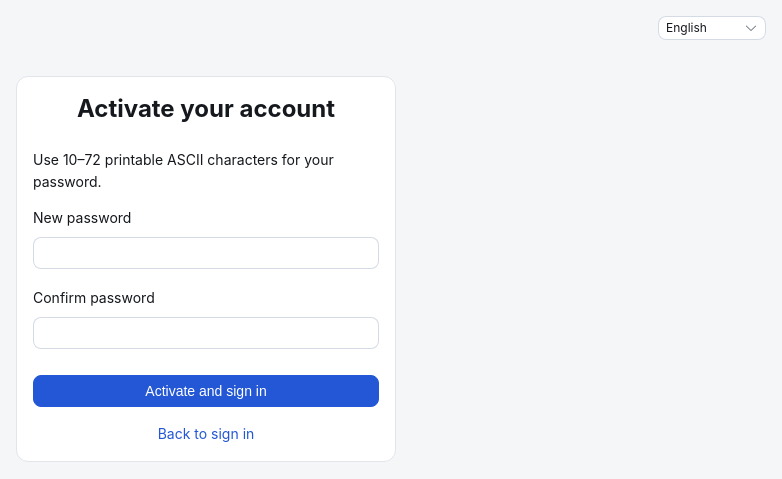
it: activation and reset links › shows the translated token failure
Type "Test-password1" into the password field labelled "New password".
click(206, 253); type("Test-password1")  # box [44, 238, 368, 268]
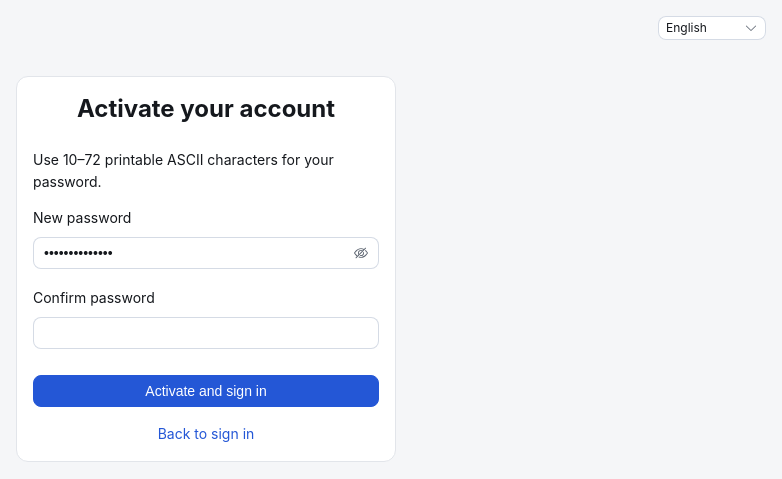
Type "Test-password1" into the password field labelled "Confirm password".
click(206, 333); type("Test-password1")  # box [44, 318, 368, 348]
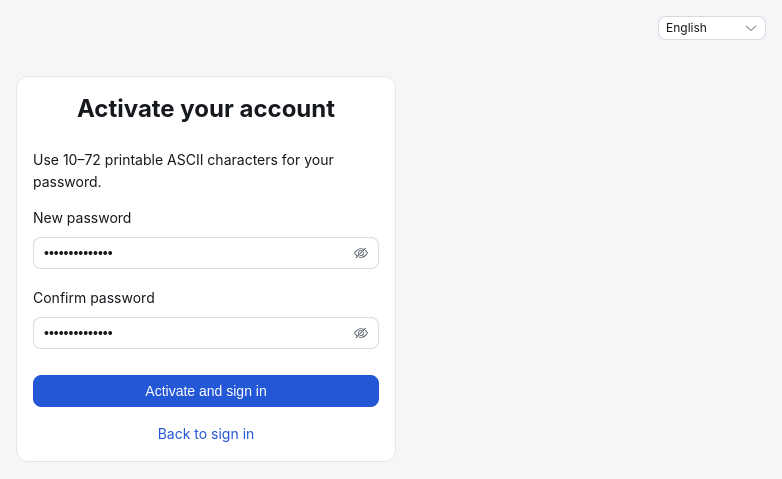
Submit the form, box [33, 149, 379, 407]
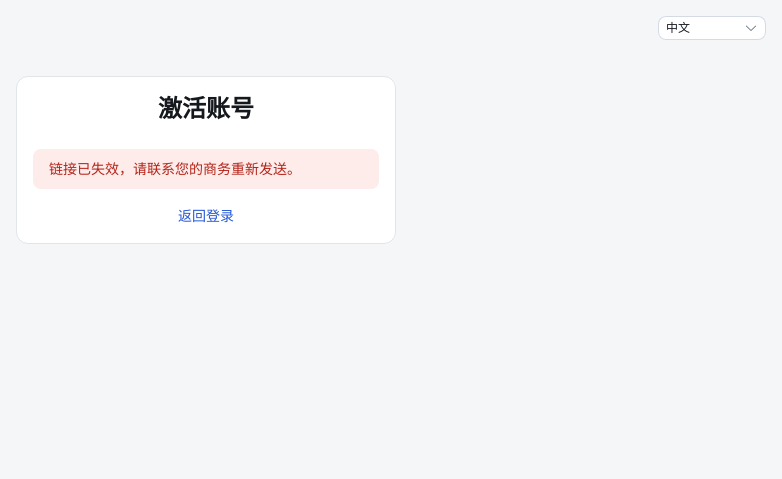
Check: the text "链接已失效，请联系您的商务重新发送" is shown, box [49, 160, 301, 177]
